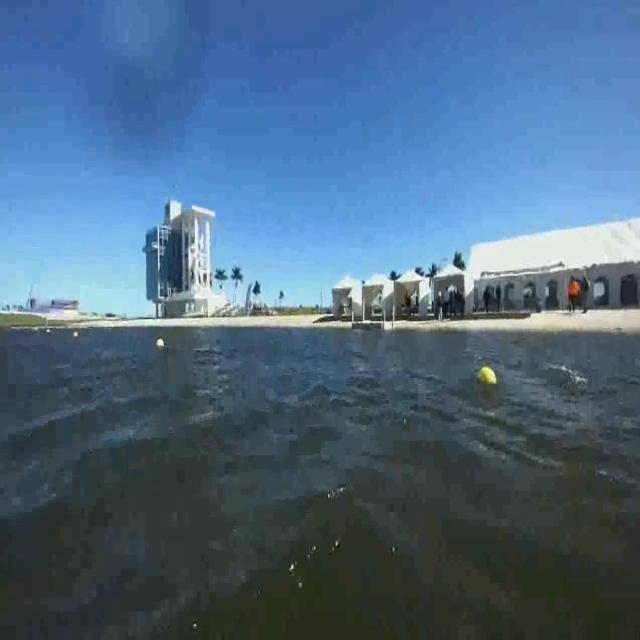yellow-buoy: (477, 364, 498, 384), (156, 336, 168, 354)
